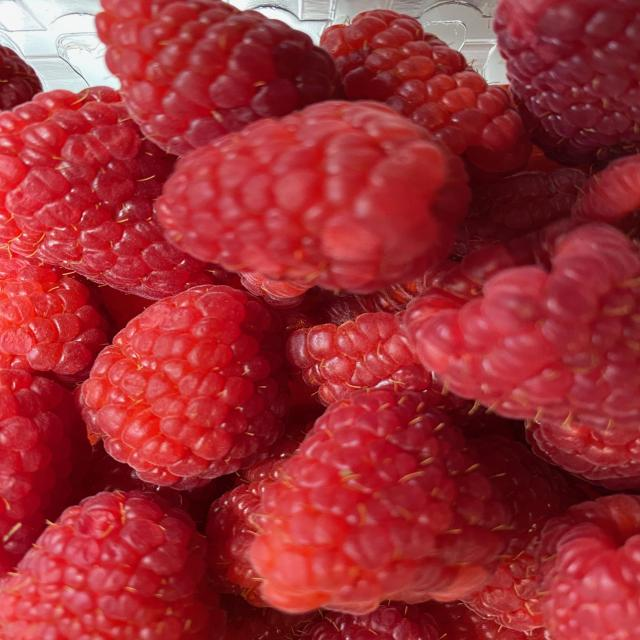raspberries: (13, 11, 624, 634)
